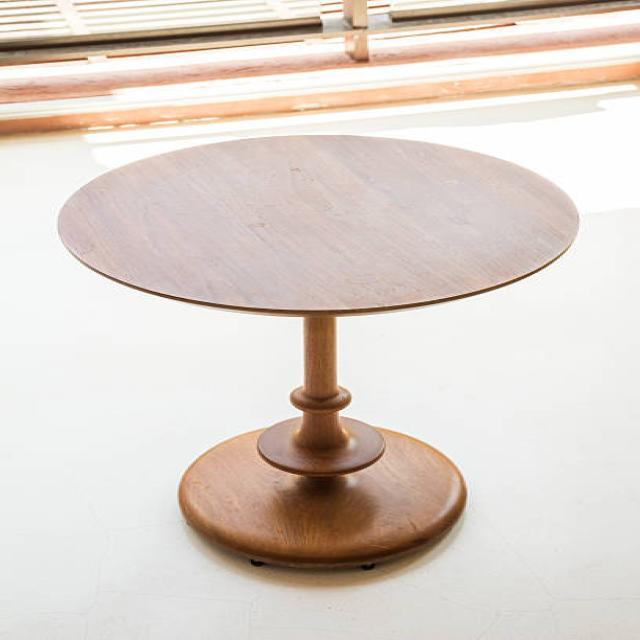table: (54, 132, 580, 570)
